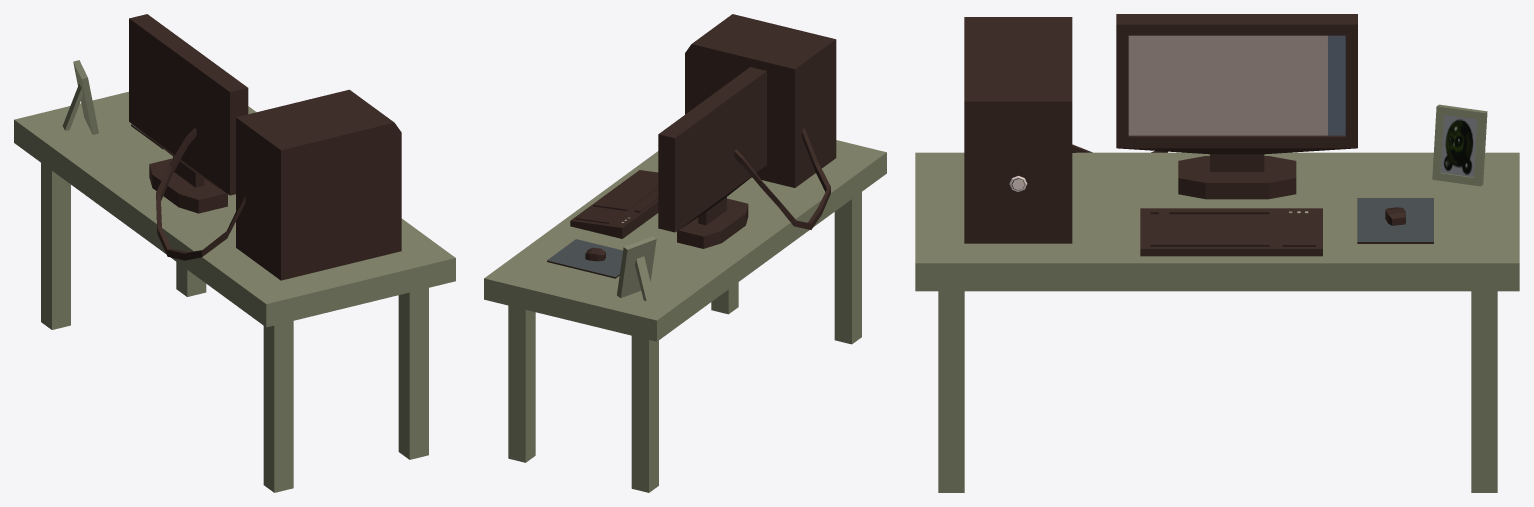
File: PotatoPc.glb
3 renders of one model, left to right at view 1: azimuth 30°, elevation 25°; view 2: azimuth 150°, elevation 25°; view 3: azimuth 270°, elevation 25°, orthographic. The views are drawn at different scales.
Visible parts, largest first — view 1: Cube_0; view 2: Cube_0; view 3: Cube_0.
Boxes of the visible parts, left/top/right/bottom form: Cube_0: left=14, top=14, right=455, bottom=492; Cube_0: left=484, top=14, right=886, bottom=492; Cube_0: left=915, top=14, right=1519, bottom=492.
Bounding box in the file's own units: 2.42 × 3.98 × 5.36.
Materials: 2 (2 with a texture image).
